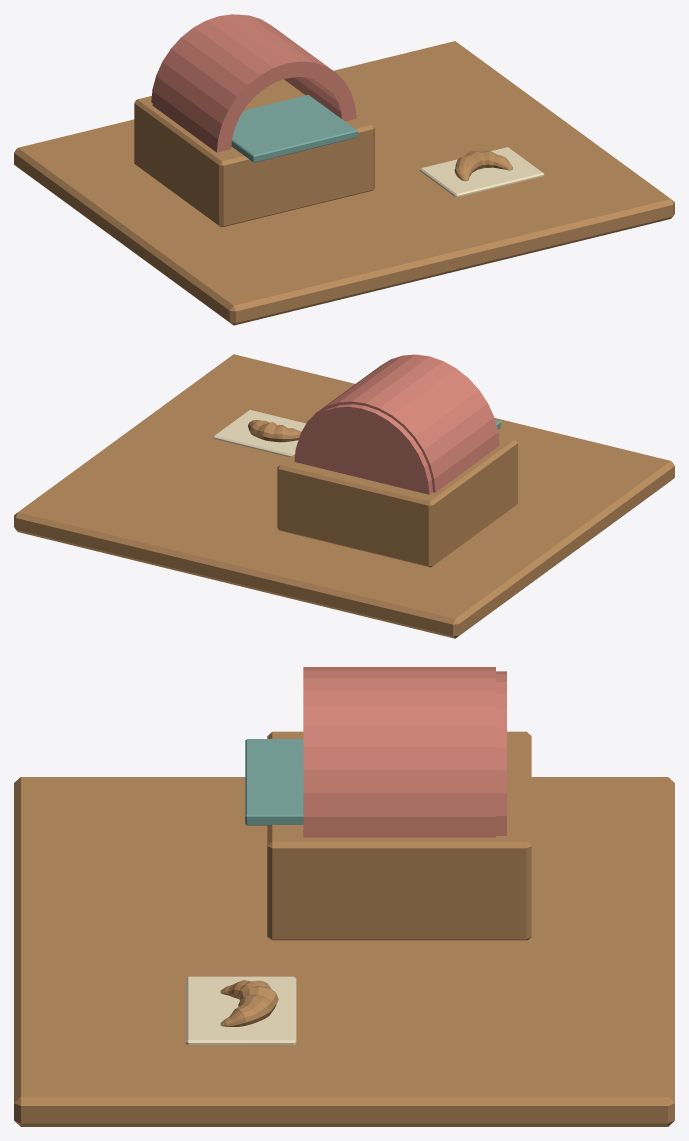
3 views of the same model, one above another, from view 1: azimuth 30°, elevation 25°; view 2: azimuth 150°, elevation 25°; view 3: azimuth 270°, elevation 25° (orthographic). The views are drawn at different scales.
Visible parts, largest first — view 1: bakery-corner-scene-01; view 2: bakery-corner-scene-01; view 3: bakery-corner-scene-01.
Boxes of the visible parts, x1=… form: bakery-corner-scene-01: x1=14, y1=14, x2=674, y2=325; bakery-corner-scene-01: x1=14, y1=354, x2=674, y2=638; bakery-corner-scene-01: x1=14, y1=667, x2=674, y2=1126.
Bounding box in the file's own units: 2.8 × 0.946 × 2.4.
